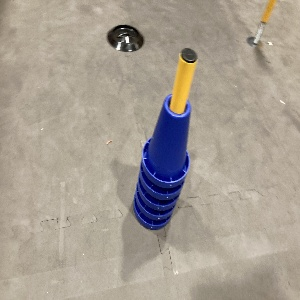Blue_5: (128, 88, 194, 231)
